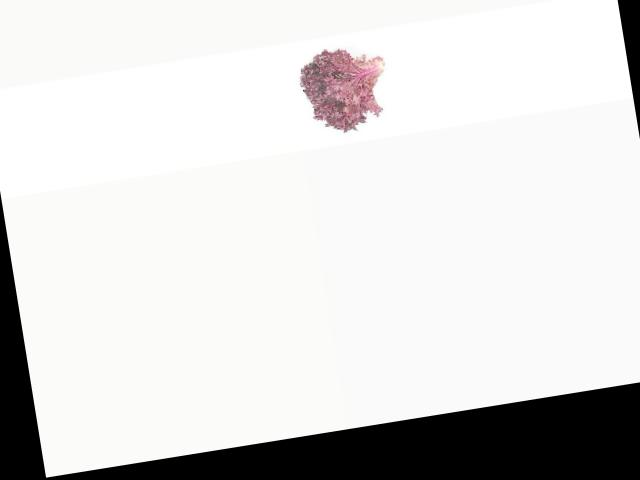lettuce: (291, 42, 403, 141)
